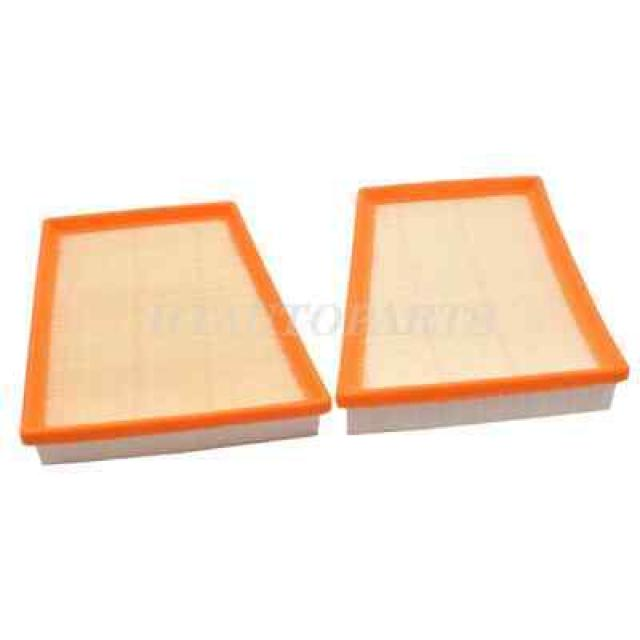air_filter: (11, 193, 332, 470), (342, 176, 640, 438)
